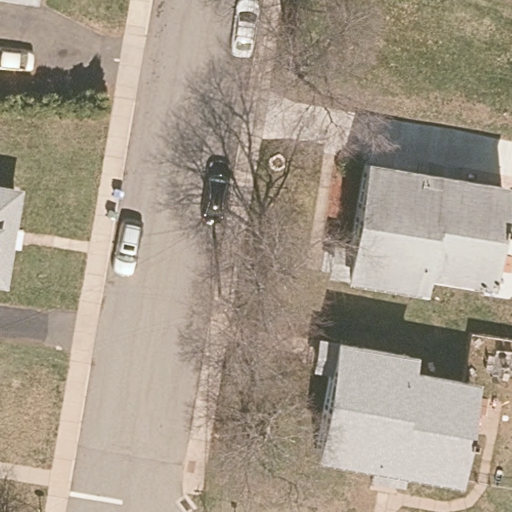DT: (213, 291, 258, 332)
